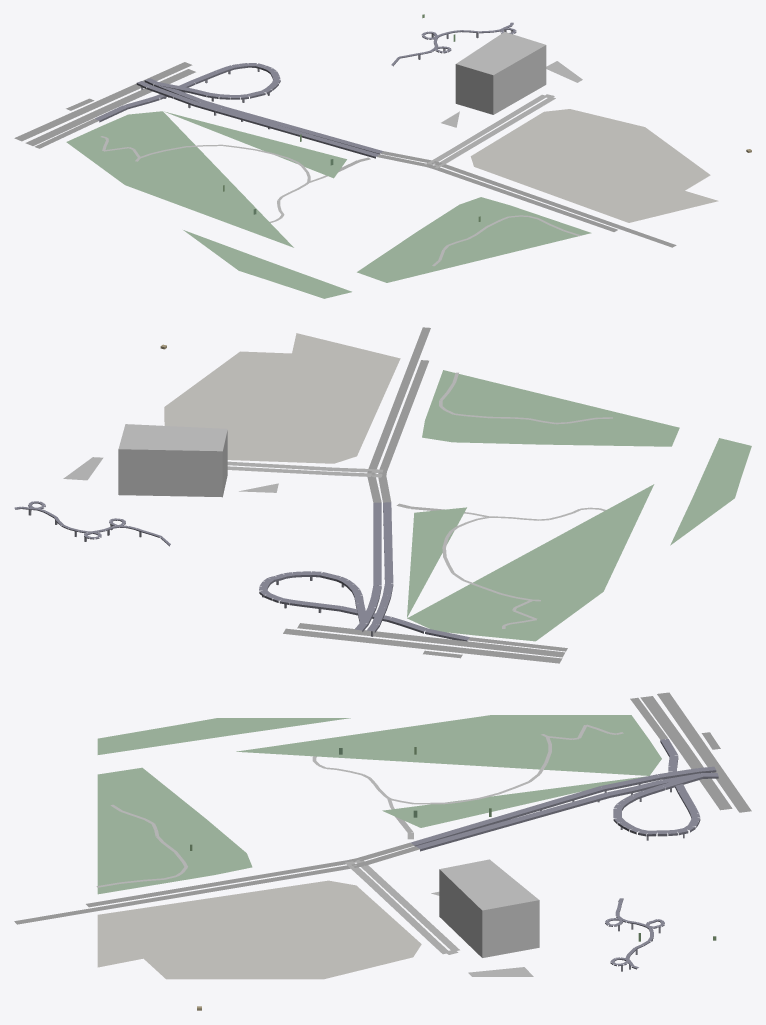
3 views of the same model, one above another, from view 1: azimuth 30°, elevation 25°; view 2: azimuth 150°, elevation 25°; view 3: azimuth 270°, elevation 25° (orthographic). The views are drawn at different scales.
Bounding box in the file's own units: 600 × 45.77 × 592.
